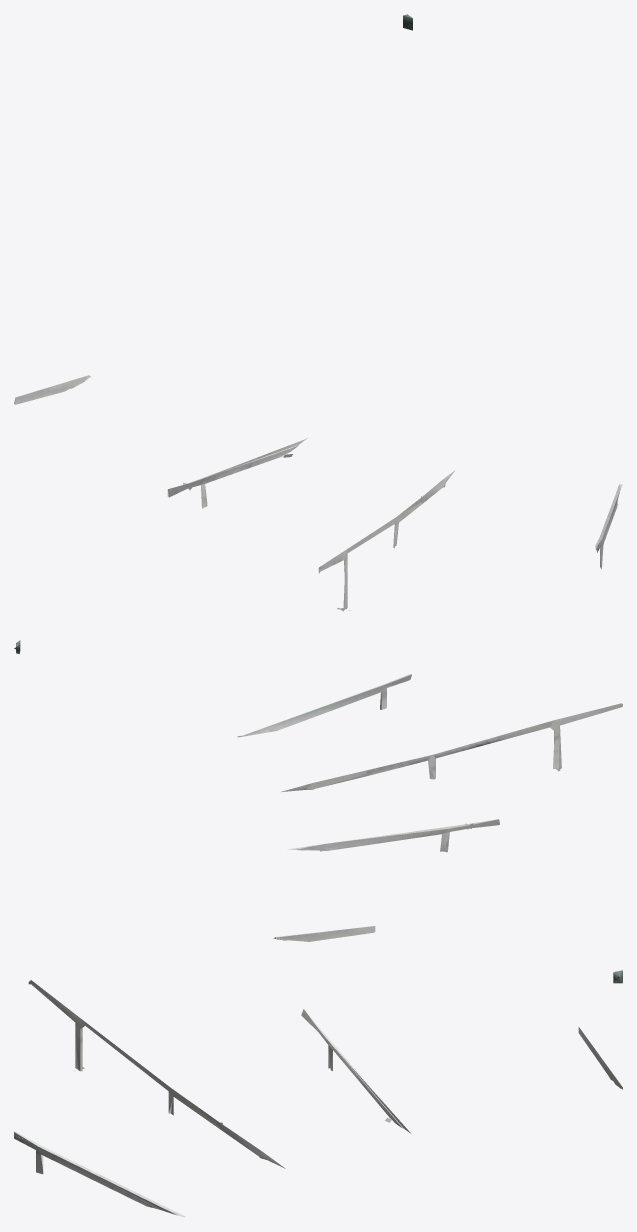
The picture shows the model from 3 angles, top to bottom: view 1: azimuth 30°, elevation 25°; view 2: azimuth 150°, elevation 25°; view 3: azimuth 270°, elevation 25°; orthographic projection. The views are drawn at different scales.
Visible parts, largest first — view 1: 30436272704370436460_0; view 2: 30436272704370436460_0; view 3: 30436272704370436460_0.
Part boxes in pixels (left/top/right/bottom): 30436272704370436460_0: left=14, top=14, right=622, bottom=611; 30436272704370436460_0: left=14, top=640, right=622, bottom=941; 30436272704370436460_0: left=14, top=970, right=622, bottom=1217.
Bounding box in the file's own units: 27.46 × 17.88 × 38.26.
1 material, 1 textured.
